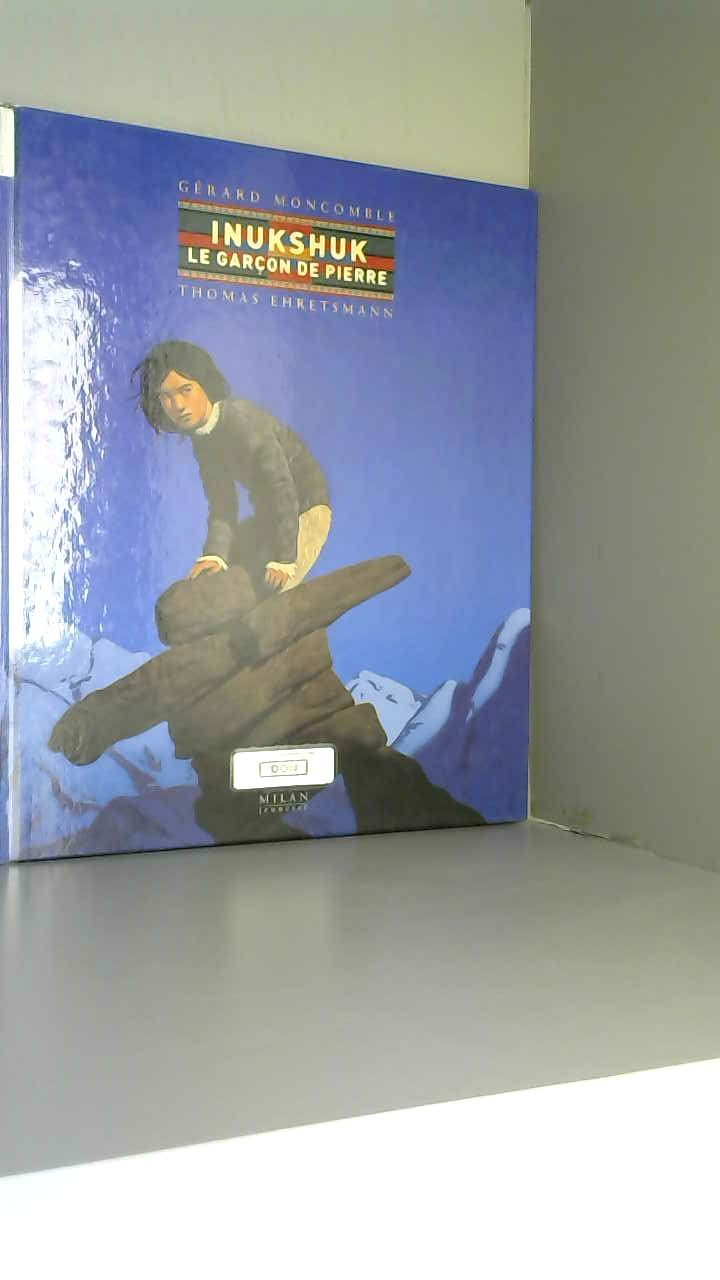book: (0, 62, 564, 907)
